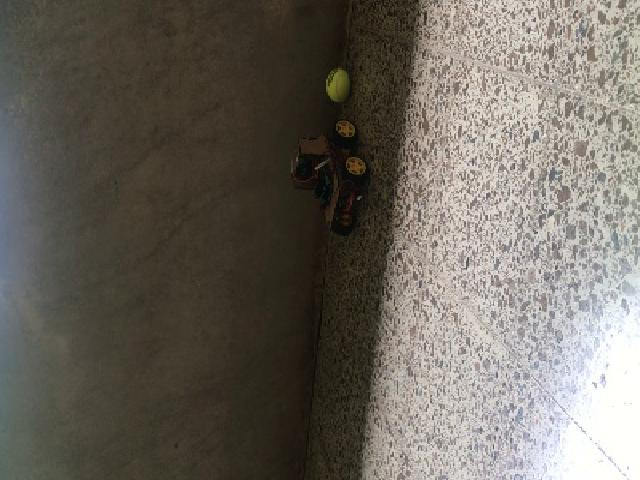Ball: (323, 70, 350, 101)
Robot: (288, 121, 370, 235)
